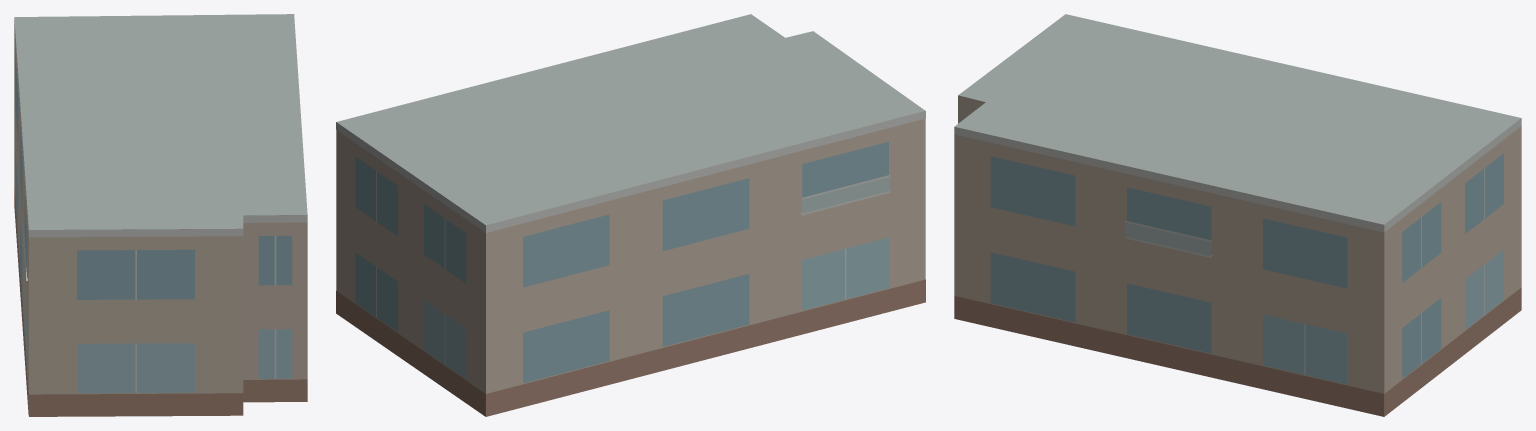
The model's file is survey-upis-32779628.glb.
3 renders of one model, left to right at view 1: azimuth 30°, elevation 25°; view 2: azimuth 150°, elevation 25°; view 3: azimuth 270°, elevation 25°, orthographic. The views are drawn at different scales.
Parts seen in each view (by area): view 1: survey-upis-32779628.tmp; view 2: survey-upis-32779628.tmp; view 3: survey-upis-32779628.tmp.
Boxes of the visible parts, x1,y1,x2,y2 form: survey-upis-32779628.tmp: [14, 14, 307, 416]; survey-upis-32779628.tmp: [336, 14, 925, 416]; survey-upis-32779628.tmp: [954, 14, 1521, 416].
Bounding box in the file's own units: 14.37 × 6.1 × 16.34.
